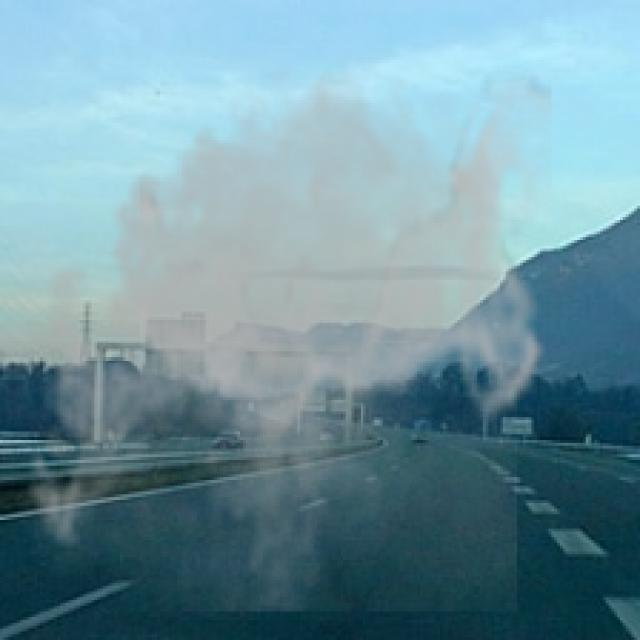smoke: (11, 49, 552, 612)
